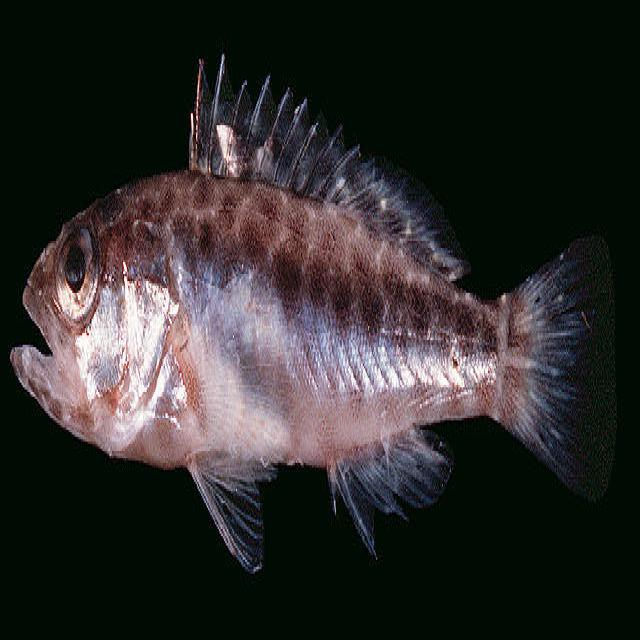ikan: (9, 50, 617, 576)
